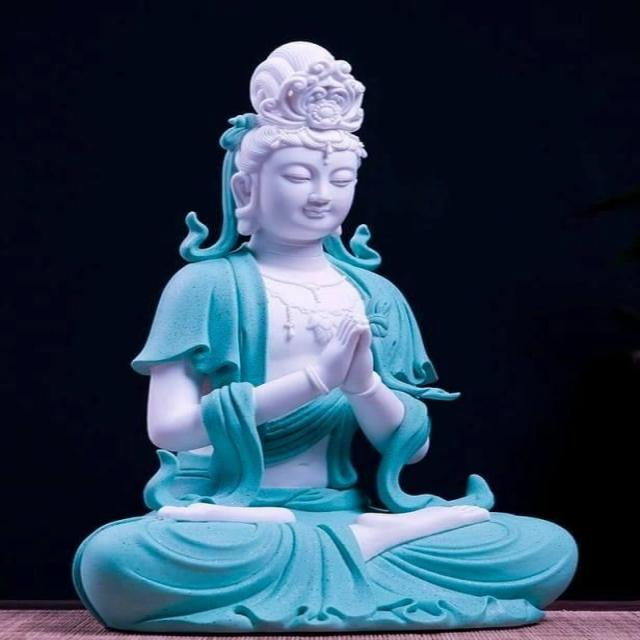Guan Yin: (132, 38, 474, 534)
